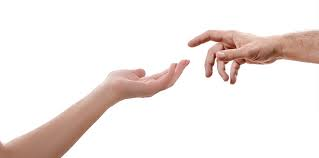hand: (186, 24, 280, 87), (103, 50, 192, 108)
